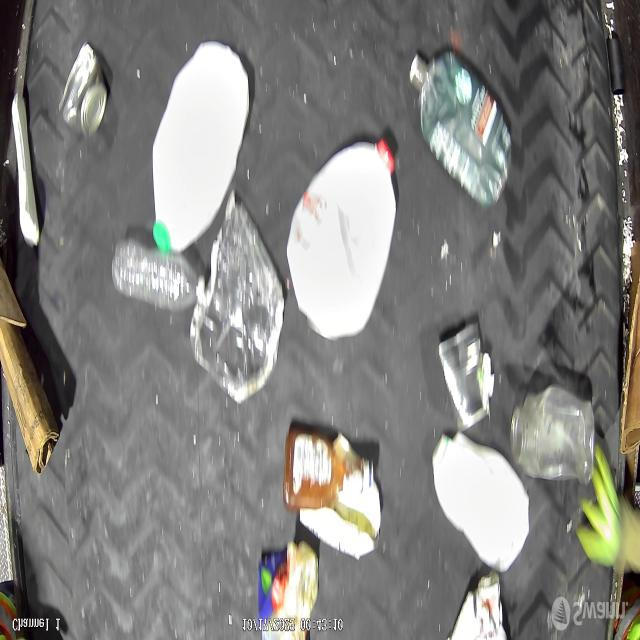can: (439, 319, 491, 431), (58, 41, 109, 139)
milk_jug: (286, 135, 399, 341), (150, 42, 251, 252), (431, 429, 530, 571)
plastic_bottle: (112, 244, 206, 312)
